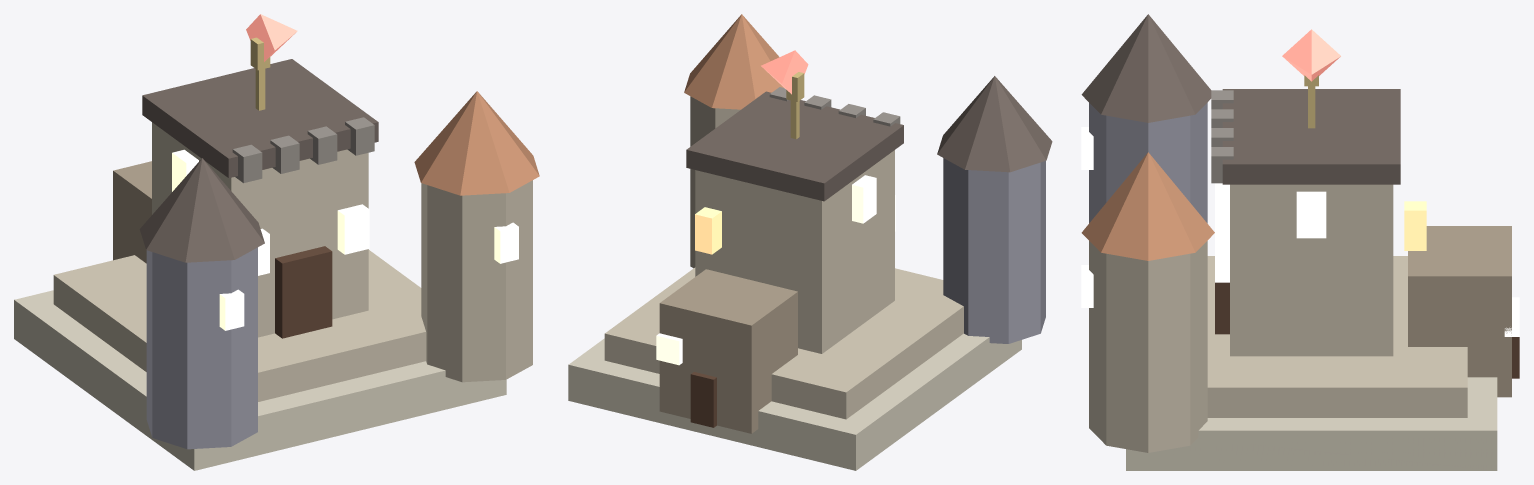
Rendered from city_capital.glb.
The picture shows the model from 3 angles, left to right: view 1: azimuth 30°, elevation 25°; view 2: azimuth 150°, elevation 25°; view 3: azimuth 270°, elevation 25°; orthographic projection. The views are drawn at different scales.
Visible parts, largest first — view 1: city-capital-0; view 2: city-capital-0; view 3: city-capital-0.
Part boxes in pixels (<box>): city-capital-0: <box>14,14,539,470</box>; city-capital-0: <box>568,14,1052,470</box>; city-capital-0: <box>1081,14,1519,470</box>.
Size of the model in its own units: 0.62 by 0.54 by 0.59.
